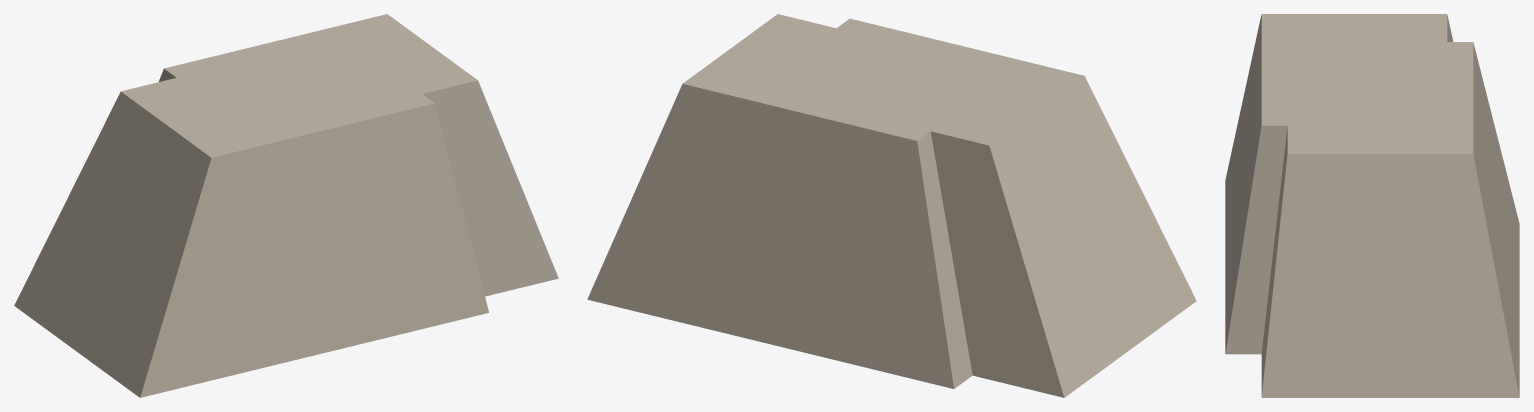
The picture shows the model from 3 angles, left to right: view 1: azimuth 30°, elevation 25°; view 2: azimuth 150°, elevation 25°; view 3: azimuth 270°, elevation 25°; orthographic projection. The views are drawn at different scales.
Bounding box in the file's own units: 10 × 4.5 × 5.7.
